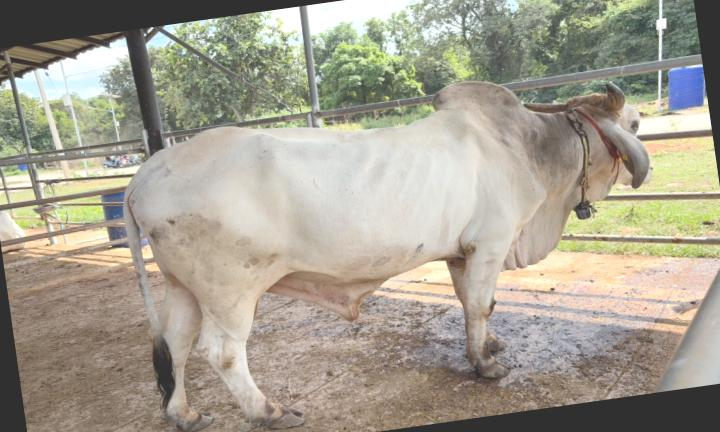Brahman: (123, 81, 651, 432)
